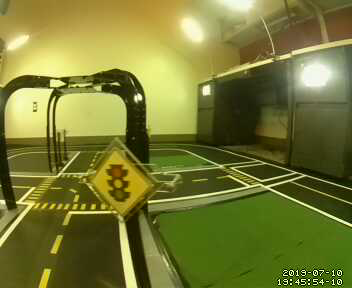Traffic light sign: (90, 150, 149, 223)
